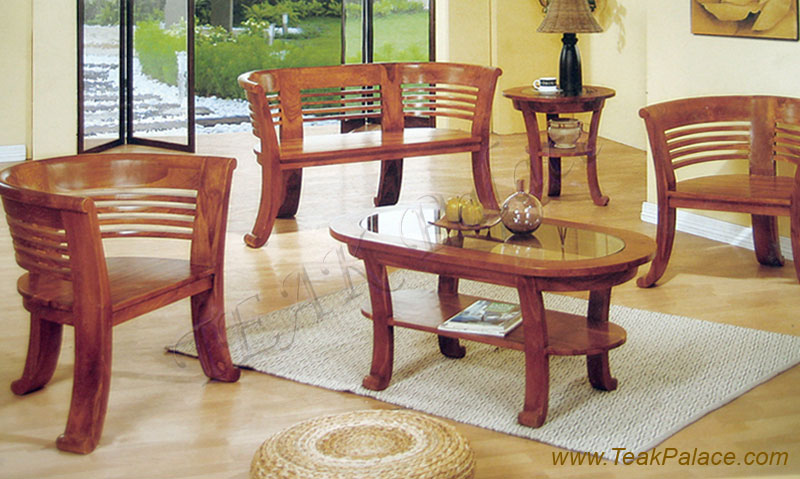Carving Chair: (9, 155, 251, 459)
Carving Table: (348, 206, 645, 438)
